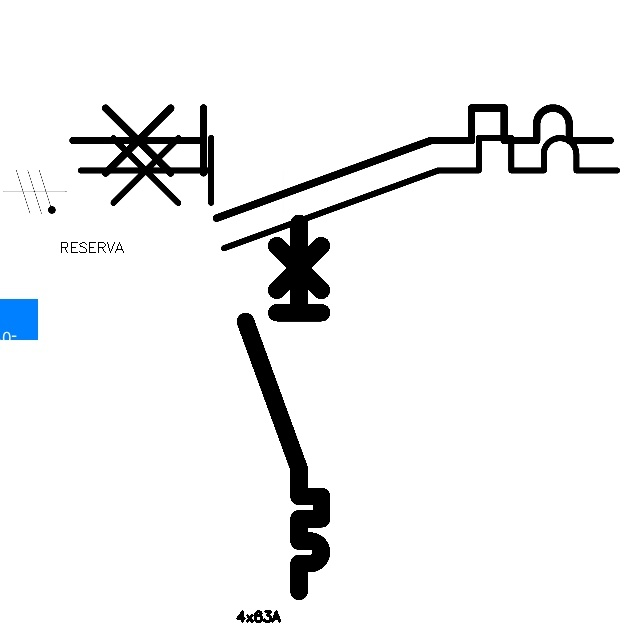interruptor_termomagnetico: (59, 94, 624, 232), (66, 124, 630, 262), (236, 213, 331, 600)
